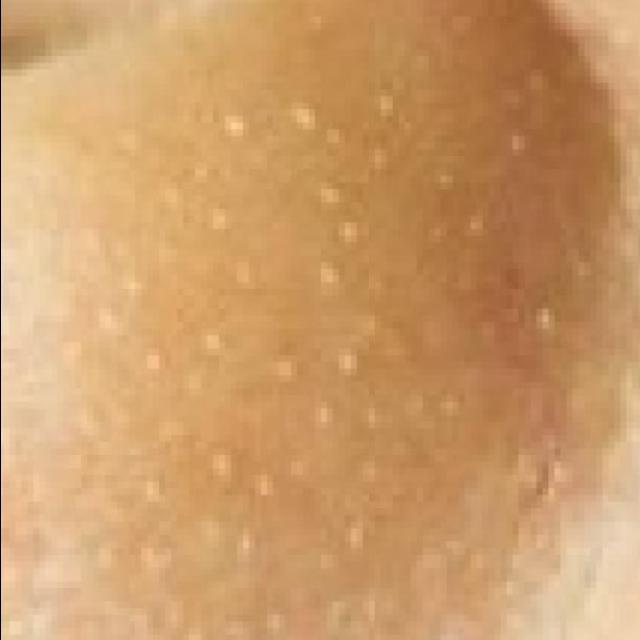whitehead: (30, 50, 629, 640)
